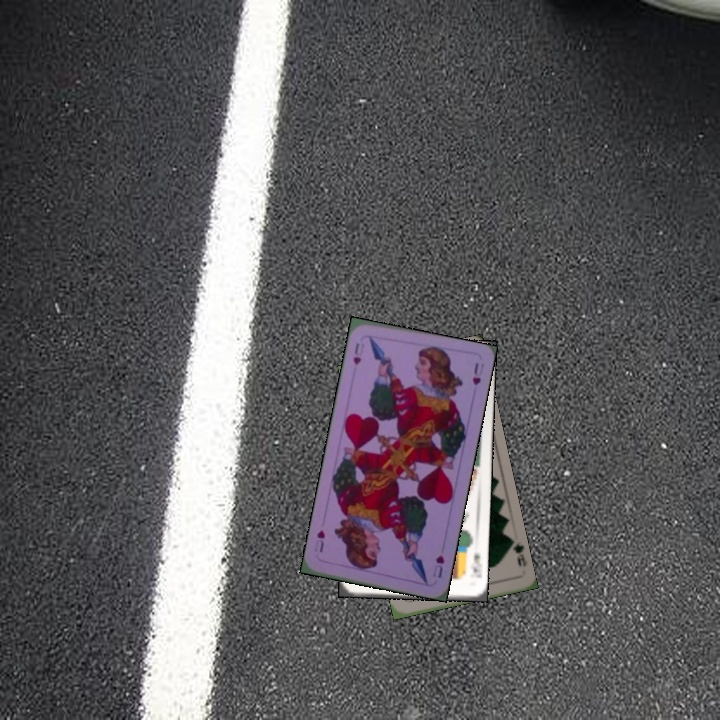EK: (469, 548, 483, 581)
G9: (505, 535, 529, 569)
HU: (429, 551, 447, 580), (349, 339, 367, 368)
